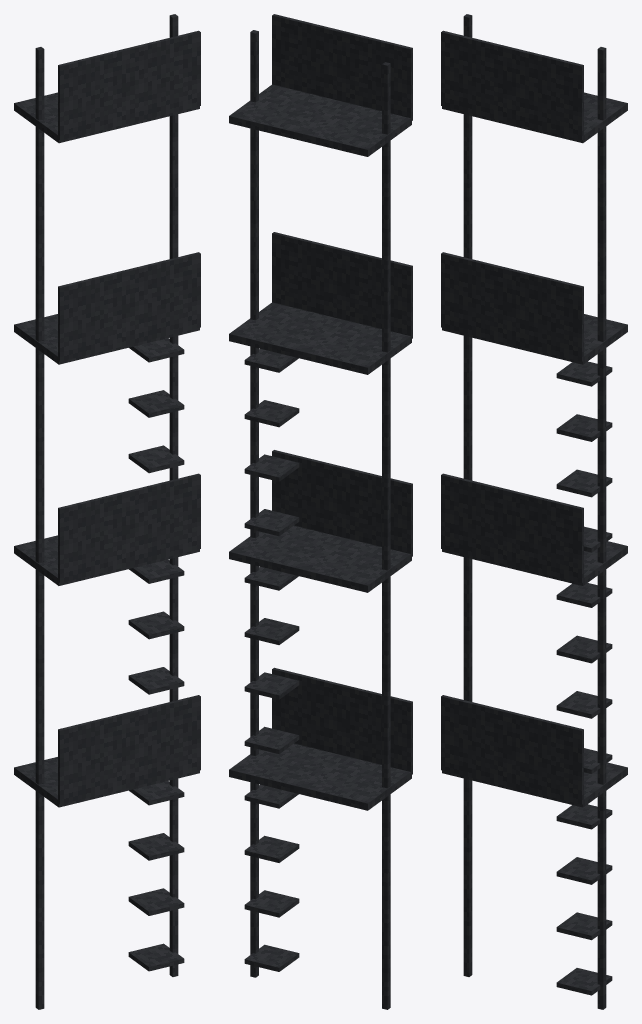
Rendered from env_fire_escape.glb.
3 views of the same model, side by side, from view 1: azimuth 30°, elevation 25°; view 2: azimuth 150°, elevation 25°; view 3: azimuth 330°, elevation 25° (orthographic).
Visible parts, largest first — view 1: env_fire_escape; view 2: env_fire_escape; view 3: env_fire_escape.
Part boxes in pixels (x1=…): env_fire_escape: x1=14, y1=14, x2=200, y2=1009; env_fire_escape: x1=229, y1=14, x2=412, y2=1009; env_fire_escape: x1=441, y1=14, x2=627, y2=1009.
Size of the model in its own units: 2 by 13 by 1.12.
Materials: 1 (1 with a texture image).
